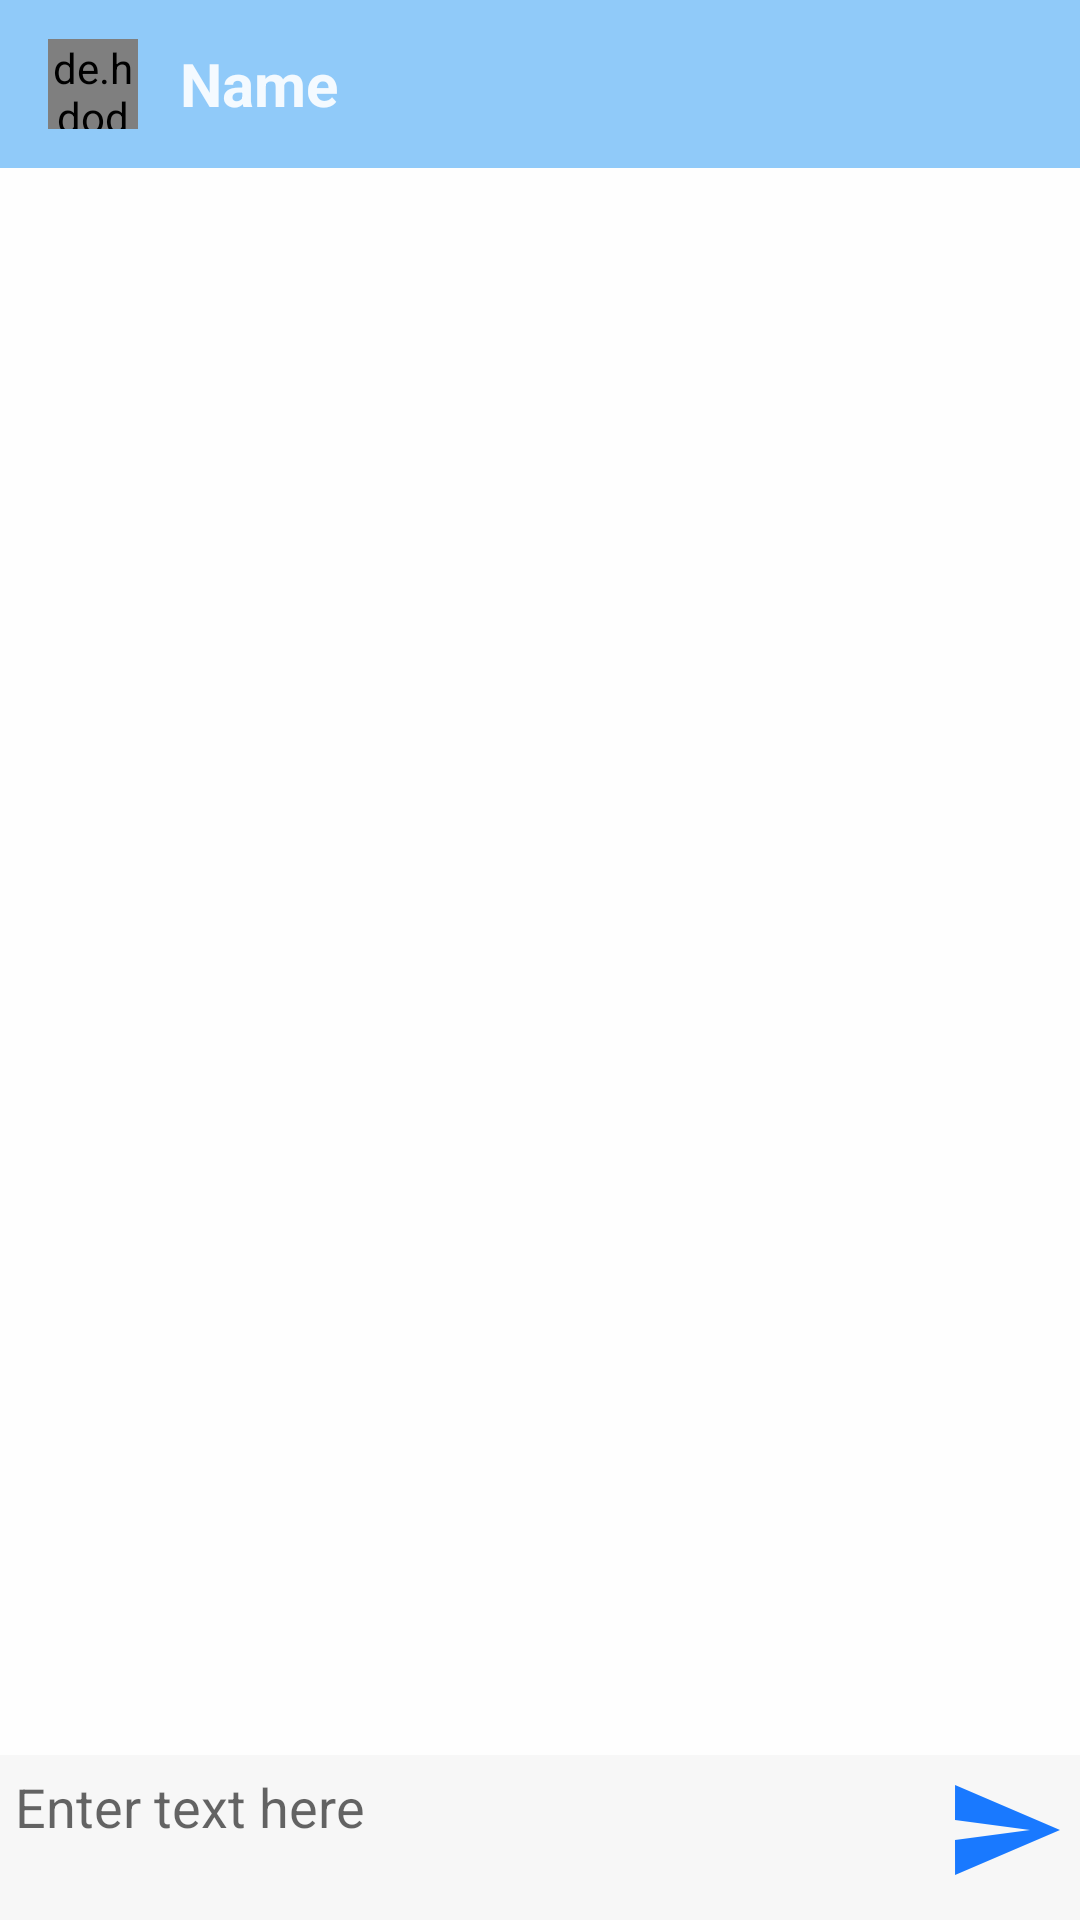

Point at icon controls on the screen. Image size 1080x1920, points as (x,y).
send: (1007,1830)
